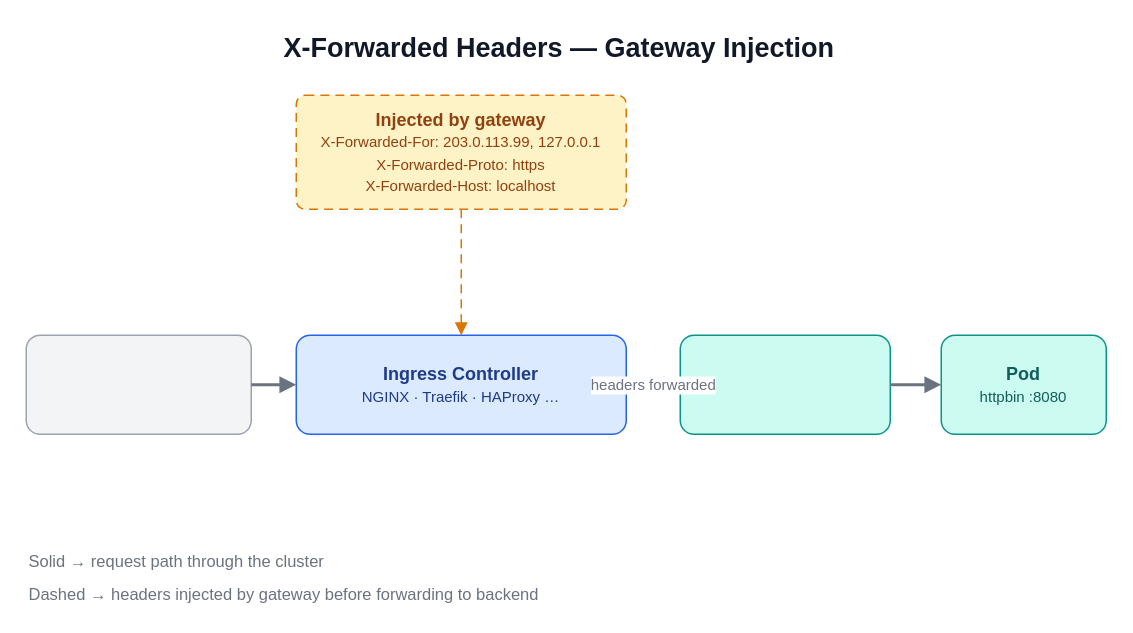
Image size: 1133x633. Some labels were removed from this diagram. The box of each missing label's shape, as (x1, y1, x2, y2) in pixels:
Client k6 · curl :8080: (25, 334, 251, 434)
Service httpbin :80: (679, 334, 890, 434)
